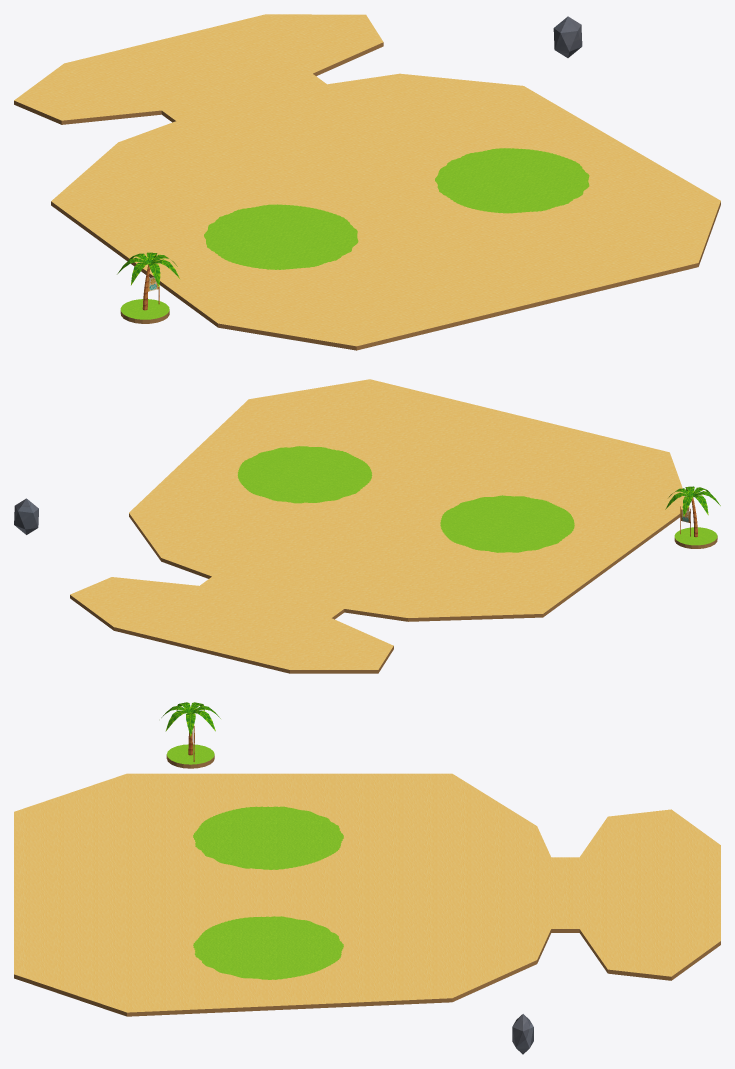
File: surface-29-BjFZ6jyI.glb
3 views of the same model, one above another, from view 1: azimuth 30°, elevation 25°; view 2: azimuth 150°, elevation 25°; view 3: azimuth 270°, elevation 25° (orthographic). The views are drawn at different scales.
Visible parts, largest first — view 1: HI_Surface_29, FLC_Regions_29, HI_Palm.017, HI_SceneryIslet_0.018, HI_BasaltOutcrop.018; view 2: HI_Surface_29, FLC_Regions_29, HI_SceneryIslet_0.018, HI_Palm.017, HI_BasaltOutcrop.018; view 3: HI_Surface_29, FLC_Regions_29, HI_SceneryIslet_0.018, HI_Palm.017, HI_BasaltOutcrop.018.
Part boxes in pixels (bbox=[...]): HI_Surface_29: bbox=[14, 14, 720, 350]; FLC_Regions_29: bbox=[204, 148, 589, 269]; HI_Palm.017: bbox=[117, 252, 179, 310]; HI_SceneryIslet_0.018: bbox=[120, 299, 169, 323]; HI_BasaltOutcrop.018: bbox=[553, 16, 582, 57]; HI_Surface_29: bbox=[70, 379, 689, 673]; FLC_Regions_29: bbox=[237, 446, 574, 552]; HI_SceneryIslet_0.018: bbox=[674, 527, 717, 548]; HI_Palm.017: bbox=[665, 486, 720, 537]; HI_BasaltOutcrop.018: bbox=[14, 498, 38, 534]; HI_Surface_29: bbox=[14, 773, 720, 1016]; FLC_Regions_29: bbox=[193, 806, 343, 979]; HI_SceneryIslet_0.018: bbox=[166, 744, 214, 768]; HI_Palm.017: bbox=[161, 702, 220, 755]; HI_BasaltOutcrop.018: bbox=[512, 1014, 533, 1054].
Bounding box in the file's own units: 49.97 × 5.15 × 50.
7 materials, 6 textured.
